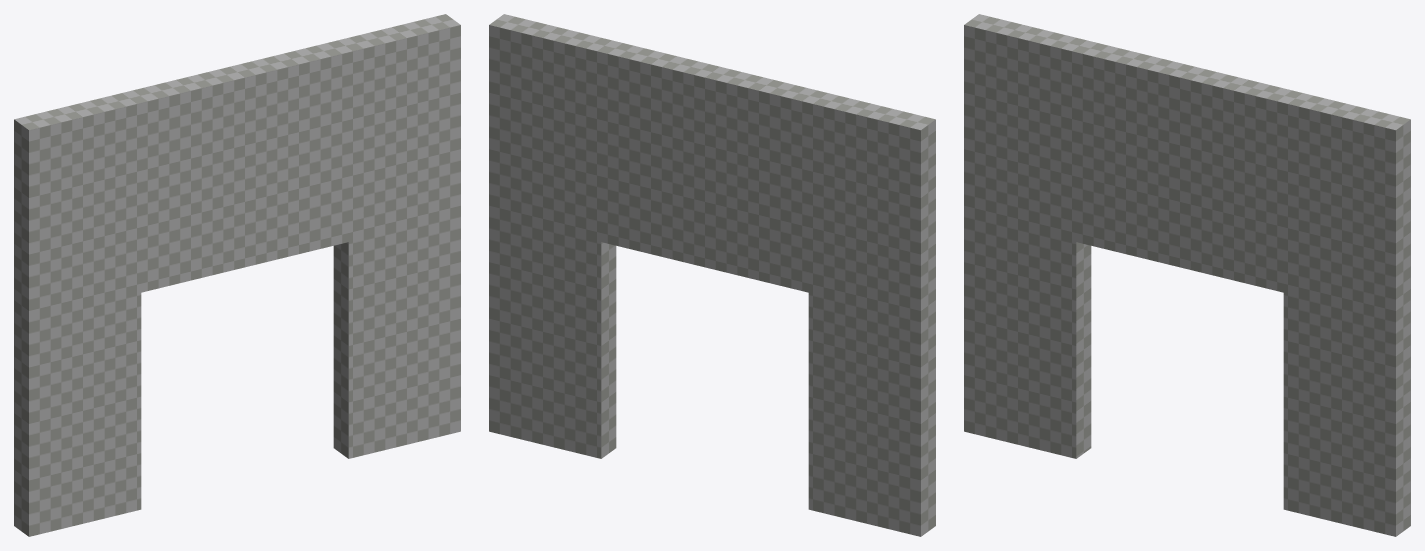
File: construction_wall_door.fbx
3 views of the same model, side by side, from view 1: azimuth 30°, elevation 25°; view 2: azimuth 150°, elevation 25°; view 3: azimuth 330°, elevation 25° (orthographic).
Parts seen in each view (by area): view 1: construction_wall_door; view 2: construction_wall_door; view 3: construction_wall_door.
Part boxes in pixels (left/top/right/bottom): construction_wall_door: left=14, top=14, right=460, bottom=536; construction_wall_door: left=489, top=14, right=935, bottom=536; construction_wall_door: left=964, top=14, right=1410, bottom=536.
Bounding box in the file's own units: 1000 × 900 × 60.
